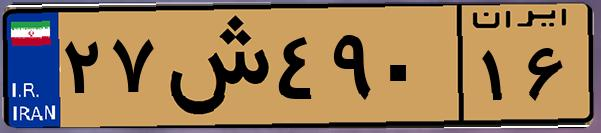0: (385, 28, 445, 110)
1: (475, 38, 525, 113)
2: (57, 26, 110, 100)
4: (270, 28, 330, 110)
6: (525, 38, 570, 115)
7: (110, 28, 158, 98)
9: (330, 28, 385, 110)
ش: (158, 12, 270, 120)
